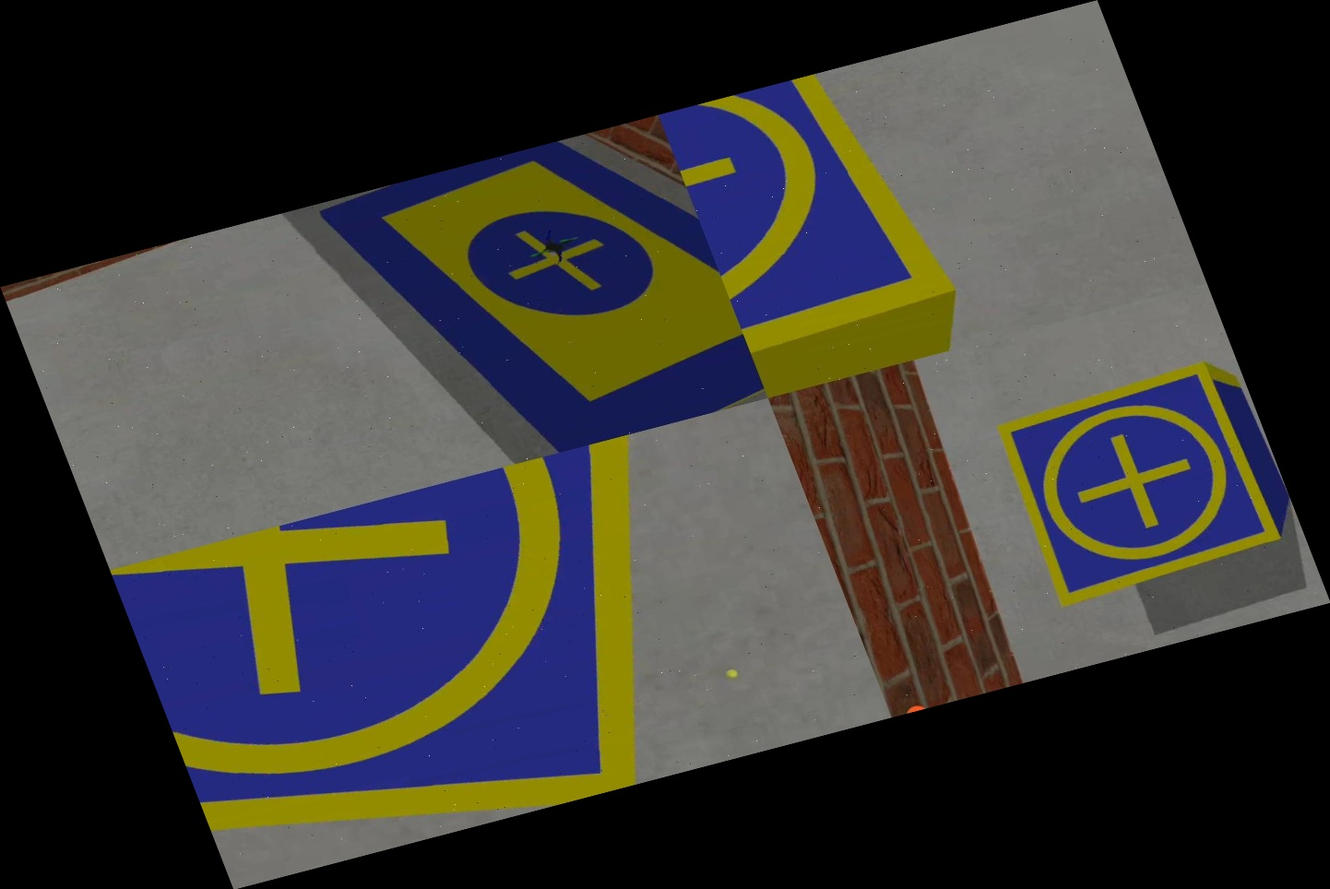large_base: (294, 114, 768, 493)
small_base: (110, 412, 835, 889), (659, 54, 998, 397), (978, 346, 1307, 621)
